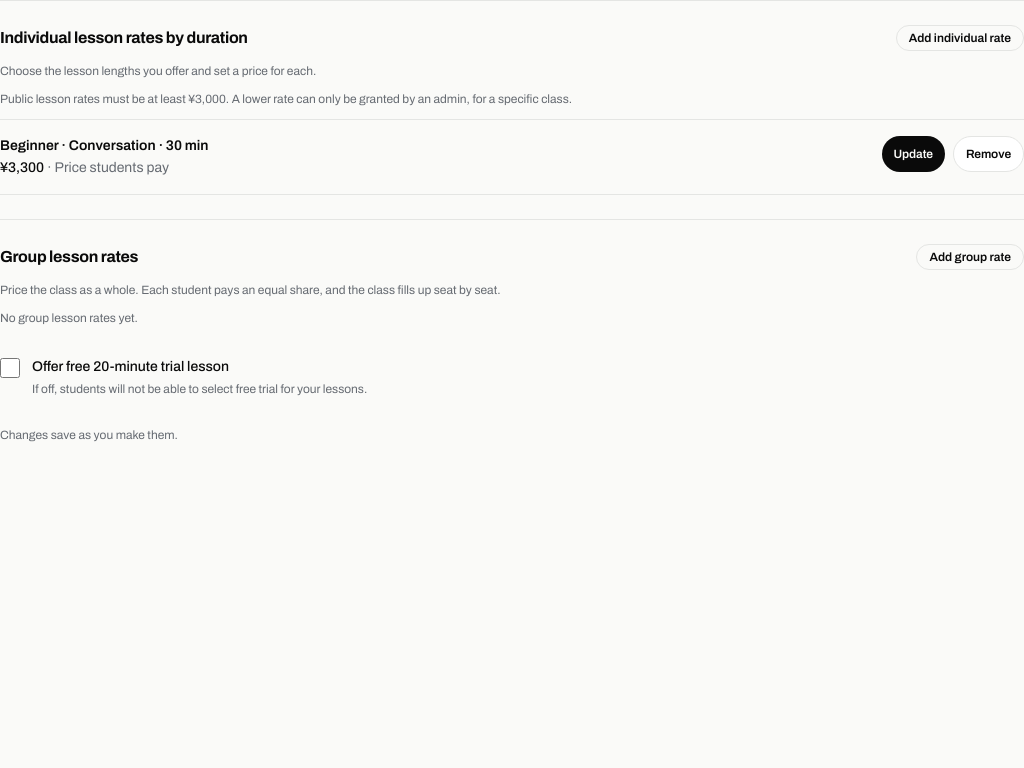
it: TeacherLessonOfferingsForm — editing › opens an empty dialog when adding
Click the button "Add individual rate".
click(960, 38)  # box [896,25,1023,51]
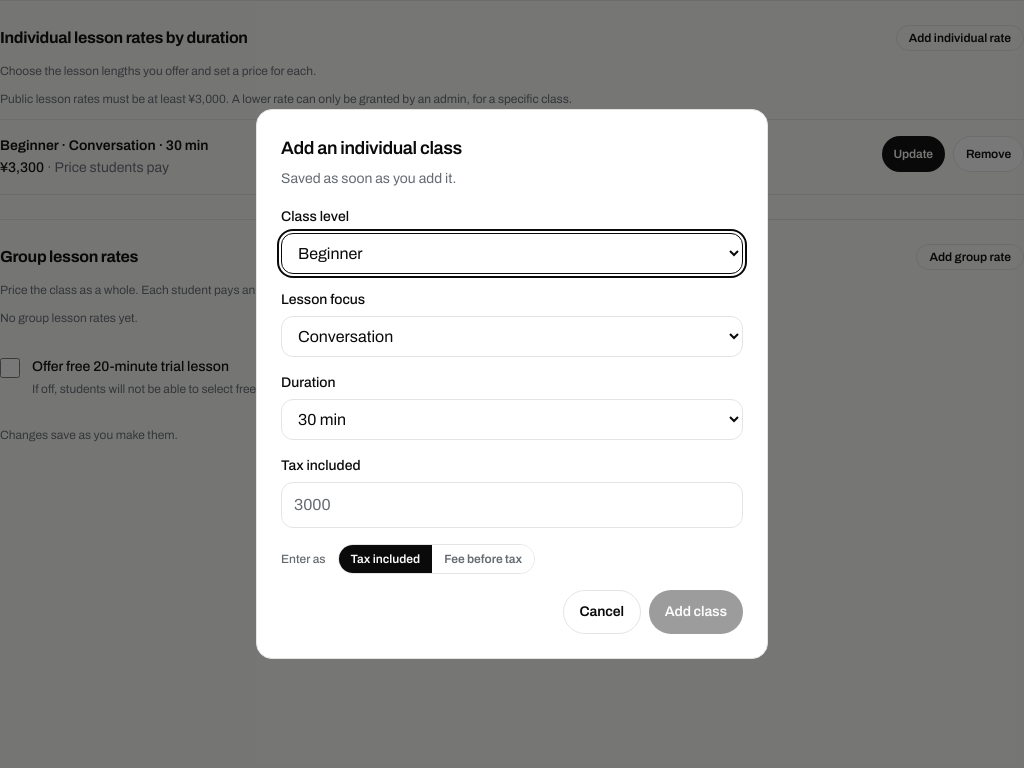
Now the heading "Add an individual class" is shown, box [281,138,462,158]
